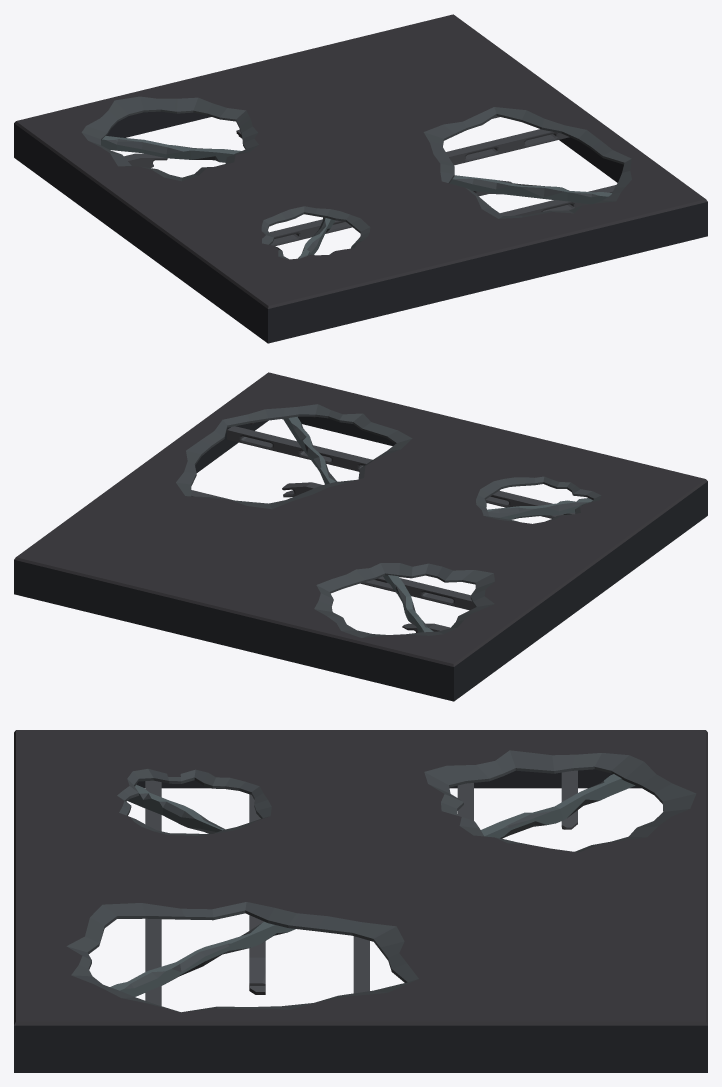
File: SM_Metall_Floor_Broken_Lvl_1.glb
The picture shows the model from 3 angles, top to bottom: view 1: azimuth 30°, elevation 25°; view 2: azimuth 150°, elevation 25°; view 3: azimuth 270°, elevation 25°; orthographic projection. The views are drawn at different scales.
Visible parts, largest first — view 1: SM_Metall_Floor_Broken_Lvl_1; view 2: SM_Metall_Floor_Broken_Lvl_1; view 3: SM_Metall_Floor_Broken_Lvl_1.
Boxes of the visible parts, x1,y1,x2,y2 form: SM_Metall_Floor_Broken_Lvl_1: [14, 14, 707, 343]; SM_Metall_Floor_Broken_Lvl_1: [14, 372, 707, 701]; SM_Metall_Floor_Broken_Lvl_1: [14, 730, 707, 1072].
Bounding box in the file's own units: 2 × 0.1599 × 2.
Materials: 1 (1 with a texture image).
